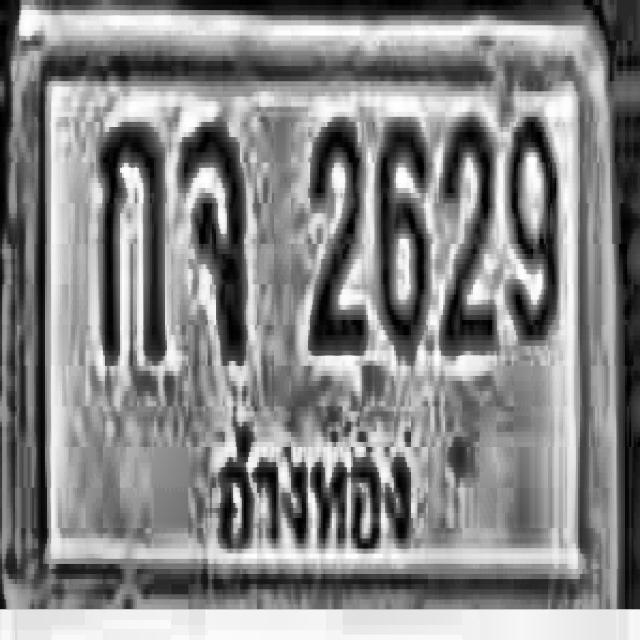license-plate: (11, 7, 622, 605)
